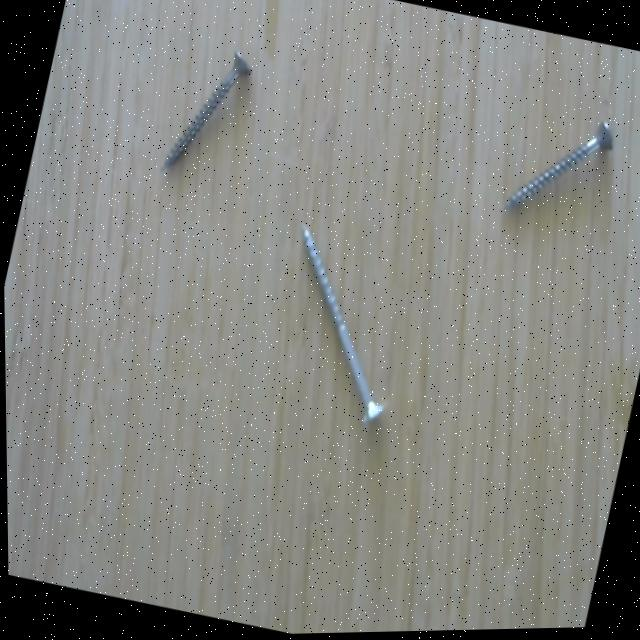Black screw: (499, 99, 623, 242), (158, 30, 260, 189)
Long screw: (255, 216, 425, 438)
